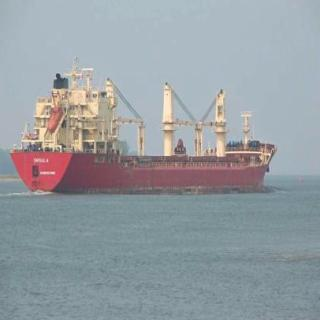Bulk Carrier: (4, 89, 276, 188)
